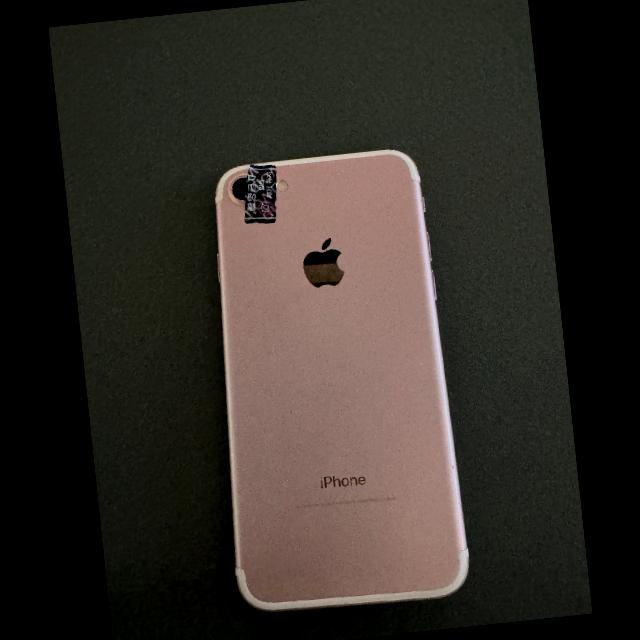lens: (232, 173, 249, 202)
phone: (215, 150, 468, 610)
sticker: (244, 163, 276, 224)
